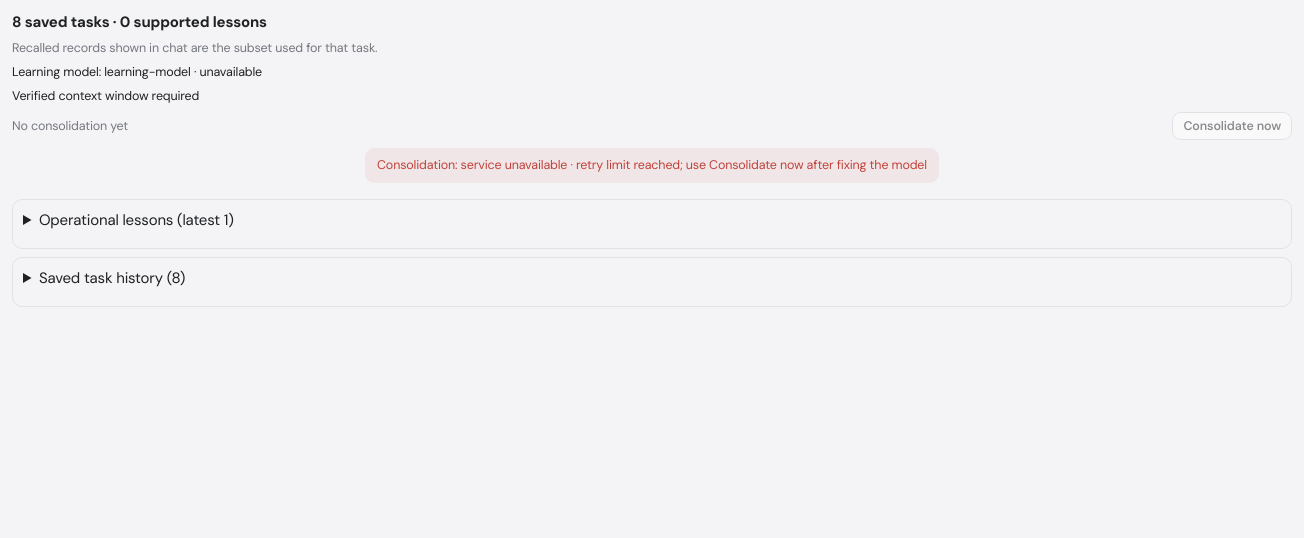
operational memory inspection › searches this bank and reads exact scoped source evidence
Later steps or results of the test are not shown.
Click the heading "Saved task history (8)" at (112, 278), box x1=39 y1=268 x2=185 y2=288
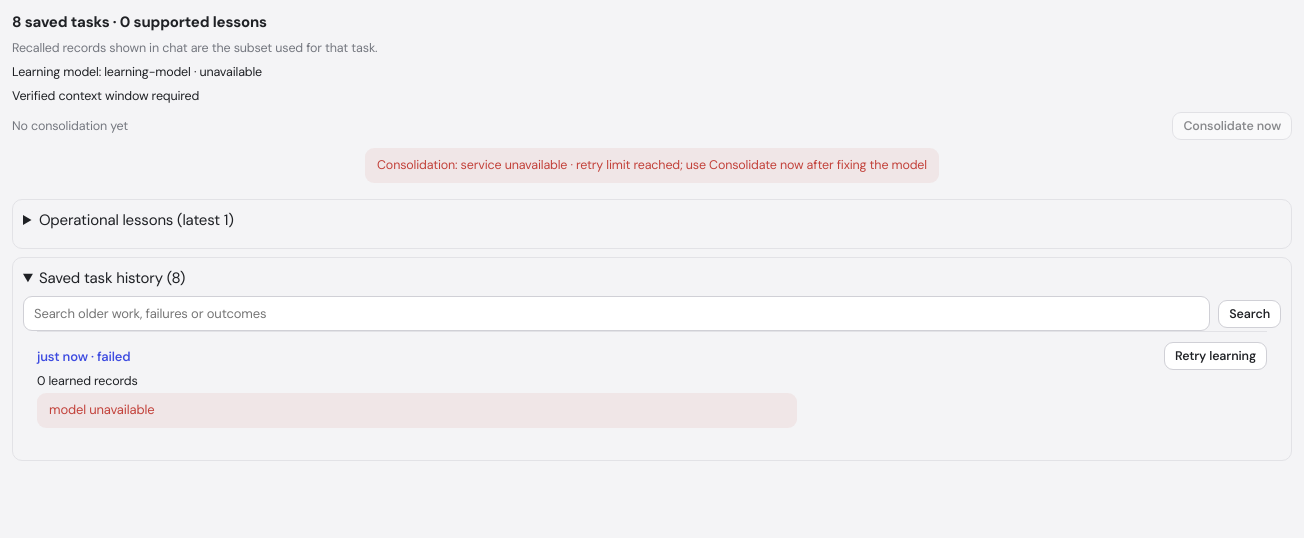
Type "old work" into the field named "Search recorded task history" at (617, 314), box x1=23 y1=296 x2=1210 y2=331
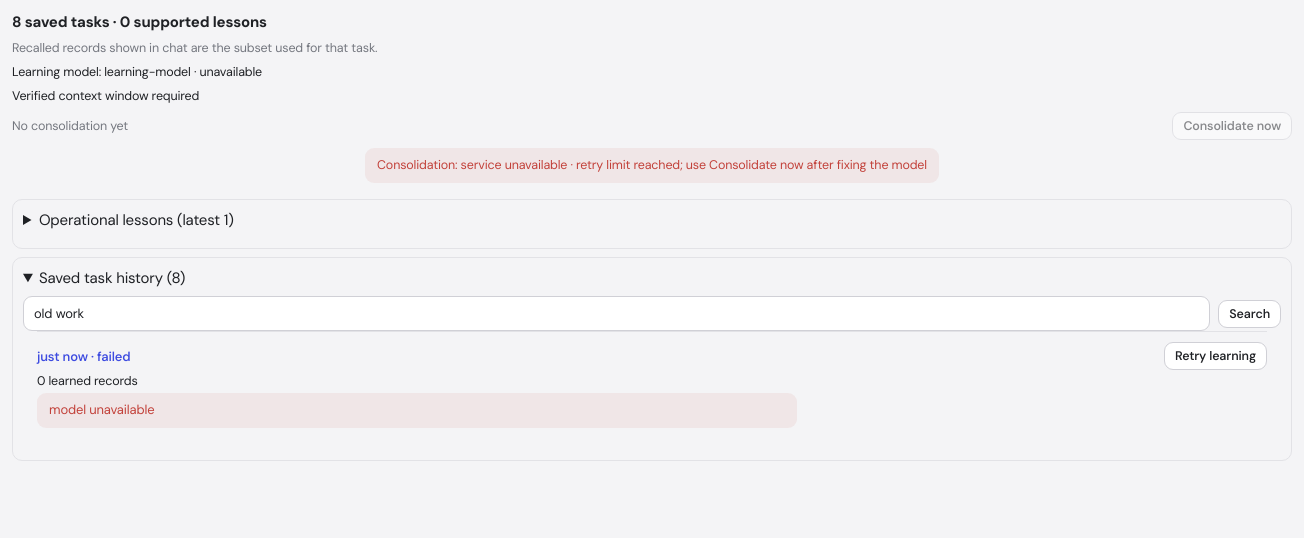
Click the button "Search" at (1250, 314), box x1=1218 y1=300 x2=1281 y2=328
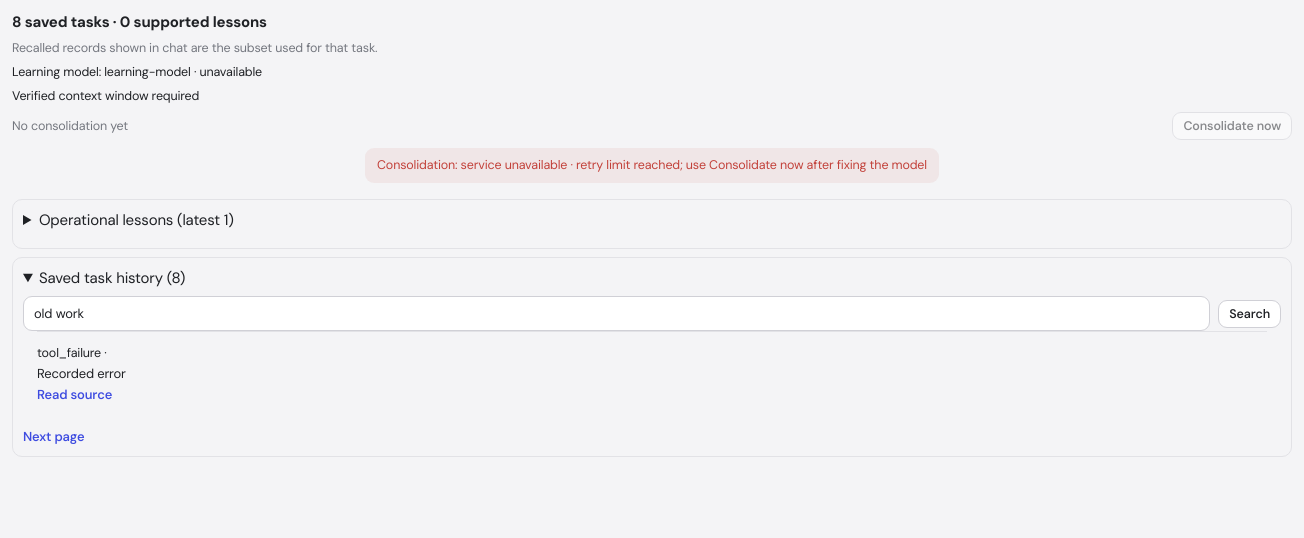
Click the button "Read source" at (75, 395), box x1=37 y1=386 x2=112 y2=403
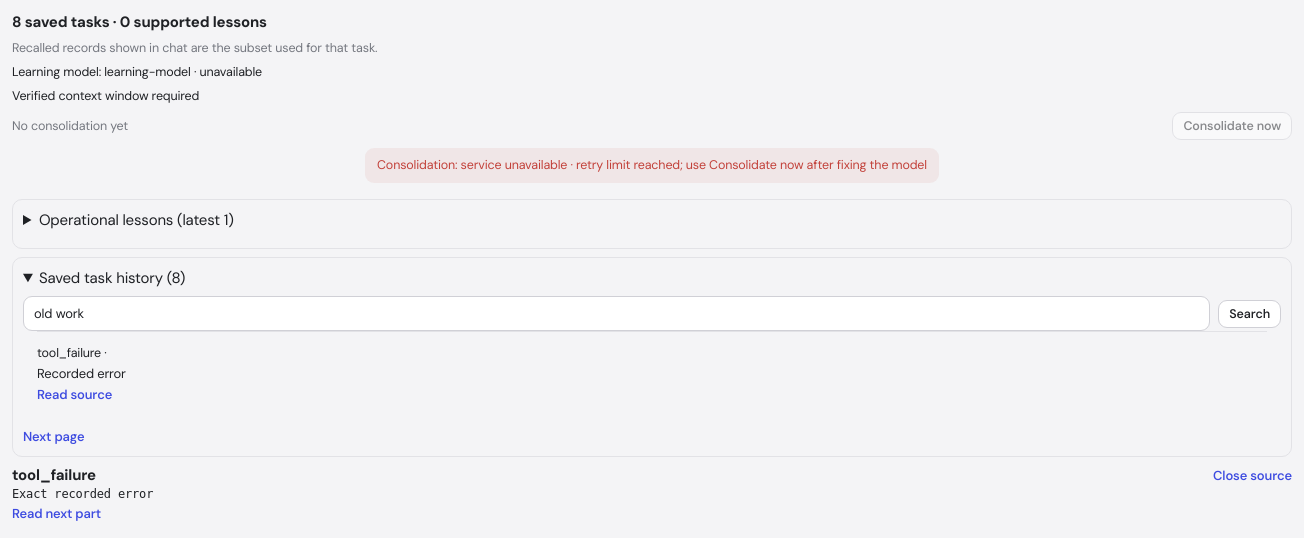
expect the text "Exact recorded error" is shown: met, box x1=12 y1=487 x2=153 y2=501
